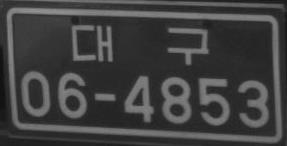0: (19, 69, 51, 118)
3: (237, 79, 270, 129)
4: (122, 75, 153, 122)
5: (197, 76, 230, 126)
6: (56, 71, 87, 119)
8: (159, 74, 191, 123)
대구_D: (71, 23, 209, 65)
